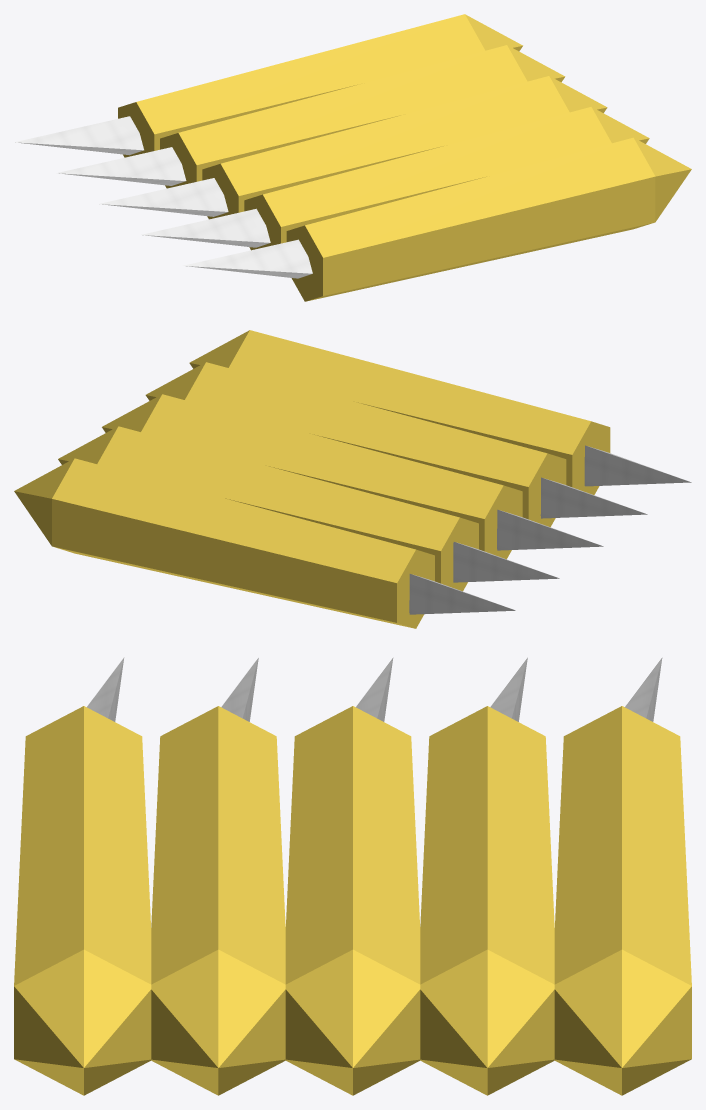
Rendered from food_corn.obj.
3 views of the same model, one above another, from view 1: azimuth 30°, elevation 25°; view 2: azimuth 150°, elevation 25°; view 3: azimuth 270°, elevation 25° (orthographic). The views are drawn at different scales.
Parts seen in each view (by area): view 1: food_corn; view 2: food_corn; view 3: food_corn.
Boxes of the visible parts, x1,y1,x2,y2 form: food_corn: (15,14,691,301); food_corn: (14,330,691,628); food_corn: (14,657,691,1095).
Size of the model in its own units: 0.68 by 0.12 by 0.504.
